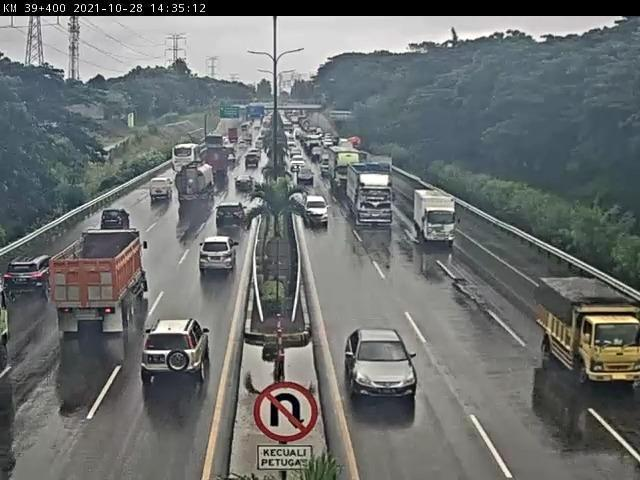bus: (172, 143, 204, 173)
car: (138, 316, 218, 392), (346, 328, 418, 403), (2, 253, 57, 307), (197, 237, 242, 278), (305, 192, 334, 230), (216, 203, 250, 232), (101, 210, 134, 233), (147, 178, 175, 205), (234, 174, 257, 194), (297, 165, 318, 186), (320, 153, 332, 178), (245, 155, 262, 171), (292, 155, 307, 173), (310, 146, 325, 162), (248, 150, 264, 162), (238, 143, 249, 152)
truck: (534, 275, 640, 387), (49, 228, 153, 342), (347, 163, 395, 228), (411, 187, 461, 248), (176, 162, 219, 209), (328, 145, 363, 193)
